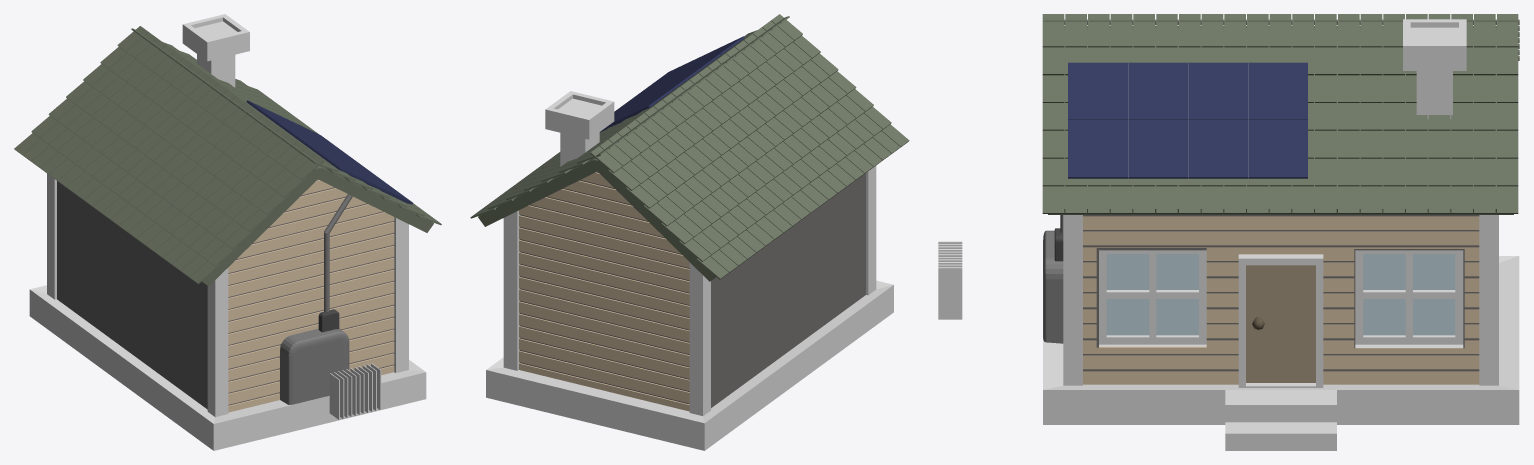
File: newhouse.fbx
The picture shows the model from 3 angles, left to right: view 1: azimuth 30°, elevation 25°; view 2: azimuth 150°, elevation 25°; view 3: azimuth 270°, elevation 25°; orthographic projection. The views are drawn at different scales.
Visible parts, largest first — view 1: Plane.001, paneling, walls, foundation, structure, Cube, chimney, Plane, roof, Circle, Plane.002, Cube.002; view 2: Plane.001, paneling, walls, foundation, structure, chimney, Plane, roof, Plane.002; view 3: Plane, Plane.006, Plane.002, foundation, window.001, window, door, walls, structure, chimney, roof, door.001 (+3 smaller).
Boxes of the visible parts, <box> form: Plane.001: <box>14,26,324,283</box>; paneling: <box>228,179,394,412</box>; walls: <box>57,179,393,409</box>; foundation: <box>29,285,426,450</box>; structure: <box>47,173,408,417</box>; Cube: <box>279,328,349,404</box>; chimney: <box>182,14,249,87</box>; Plane: <box>131,28,441,225</box>; roof: <box>202,165,433,286</box>; Circle: <box>329,363,381,419</box>; Plane.002: <box>246,100,412,204</box>; Cube.002: <box>318,309,339,332</box>; Plane.001: <box>590,14,909,279</box>; paneling: <box>519,171,689,411</box>; walls: <box>519,172,865,407</box>; foundation: <box>486,280,893,450</box>; structure: <box>503,165,876,415</box>; chimney: <box>545,91,614,166</box>; Plane: <box>470,16,789,218</box>; roof: <box>478,158,715,281</box>; Plane.002: <box>599,36,744,132</box>; Plane: <box>1042,14,1518,213</box>; Plane.006: <box>1083,216,1479,384</box>; Plane.002: <box>1068,62,1307,178</box>; foundation: <box>1043,256,1519,450</box>; window.001: <box>1106,254,1455,335</box>; window: <box>1099,250,1463,347</box>; door: <box>1246,265,1315,382</box>; walls: <box>1083,215,1479,371</box>; structure: <box>1063,215,1498,385</box>; chimney: <box>1403,19,1466,119</box>; roof: <box>1048,26,1513,214</box>; door.001: <box>1238,254,1323,387</box>.
Bounding box in the file's own units: 570 × 555 × 823.
